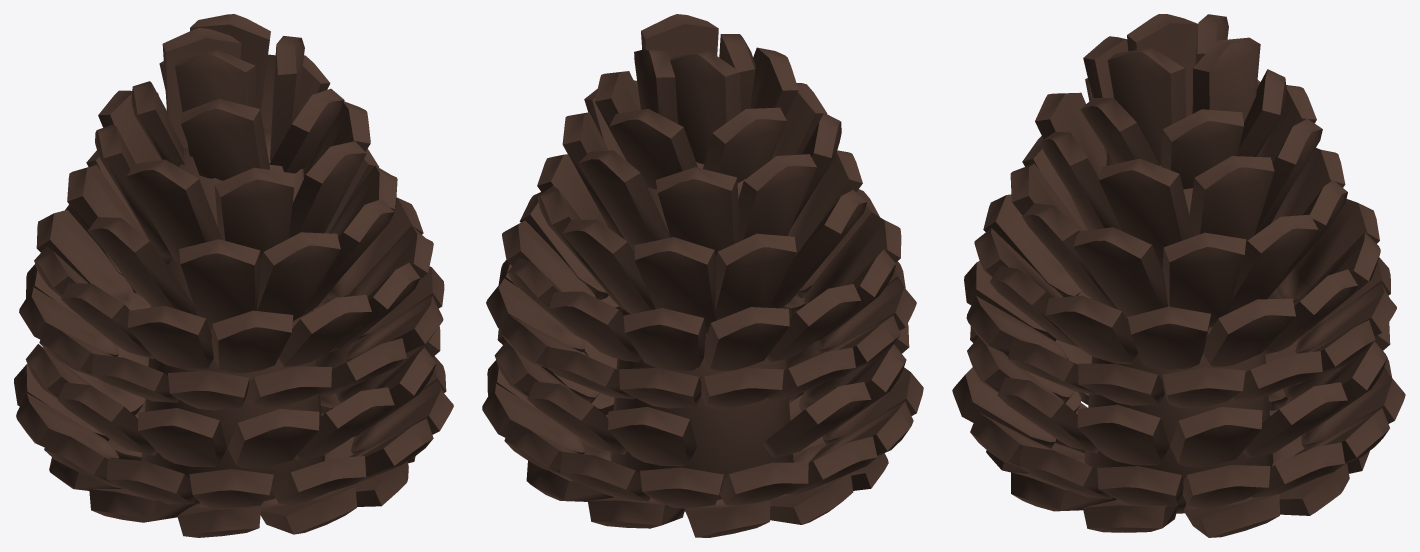
Rendered from PineCone_01.fbx.
3 renders of one model, left to right at view 1: azimuth 30°, elevation 25°; view 2: azimuth 150°, elevation 25°; view 3: azimuth 270°, elevation 25°, orthographic.
Visible parts, largest first — view 1: PineCone_01; view 2: PineCone_01; view 3: PineCone_01.
Part boxes in pixels (bbox=[...]): PineCone_01: bbox=[14, 14, 453, 537]; PineCone_01: bbox=[482, 14, 923, 537]; PineCone_01: bbox=[952, 14, 1405, 537].
Bounding box in the file's own units: 0.1319 × 0.1484 × 0.134.
